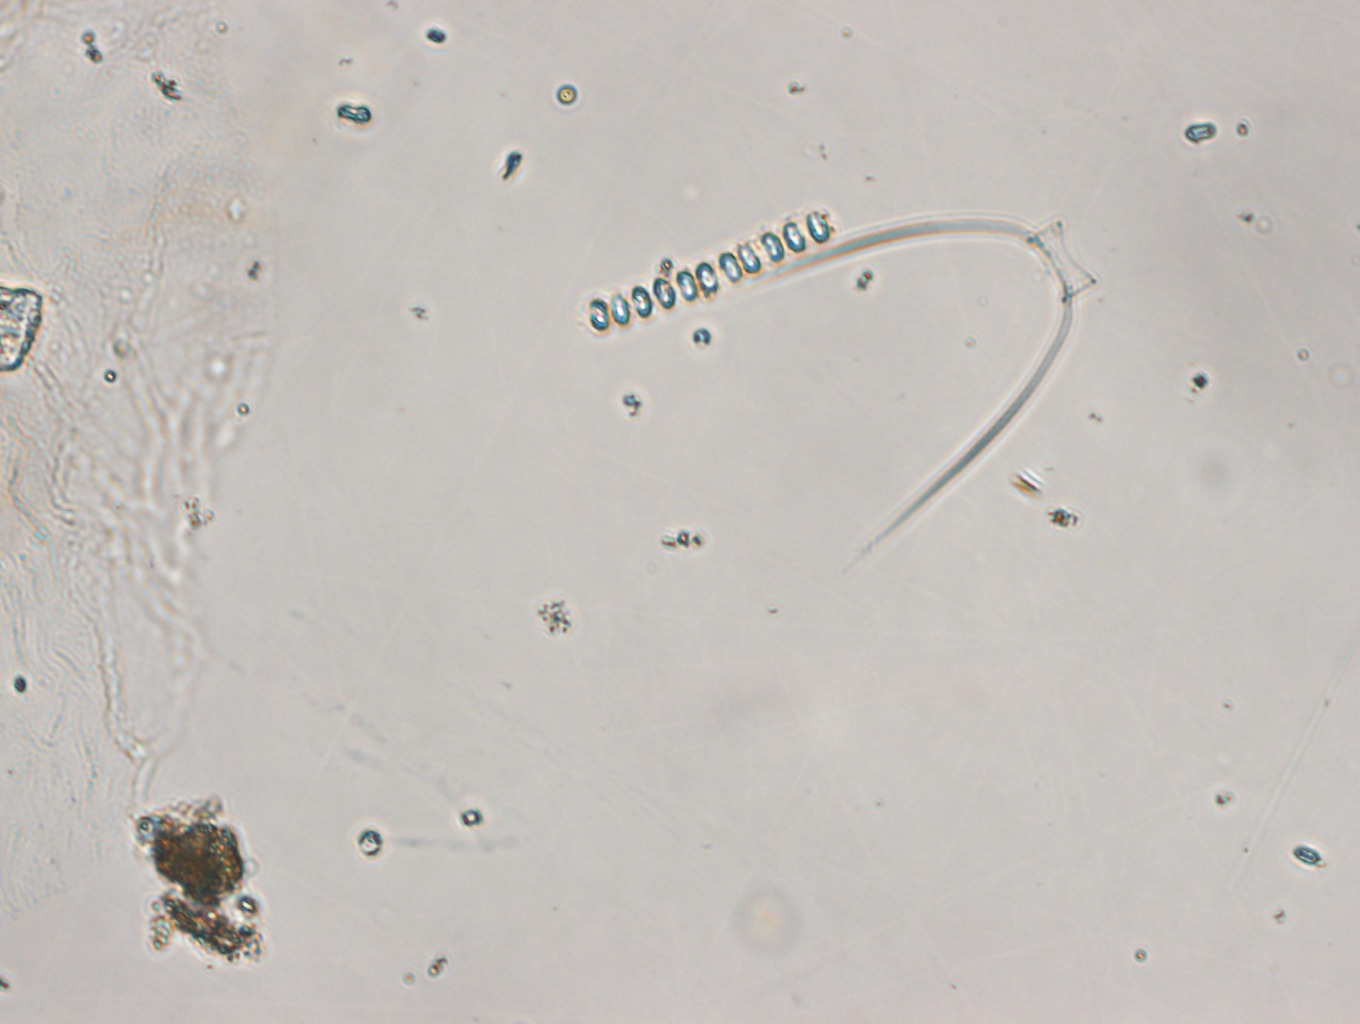chaetoceros: (696, 203, 1098, 559)
skeletonema: (578, 203, 844, 336)
